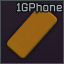Golden 1GPhone: (0, 0, 64, 64)
